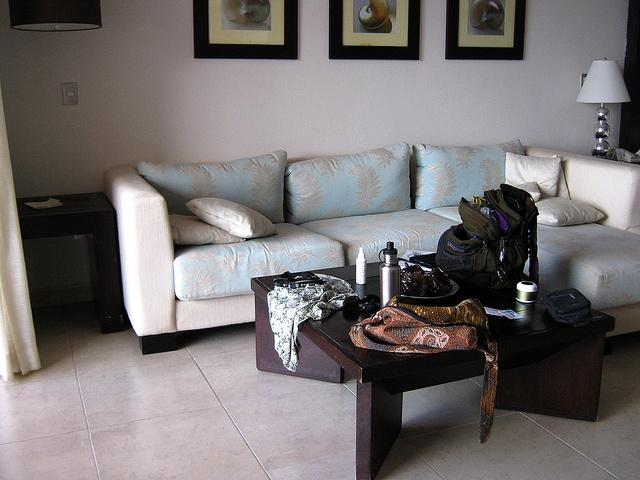Meja: (250, 249, 616, 479)
